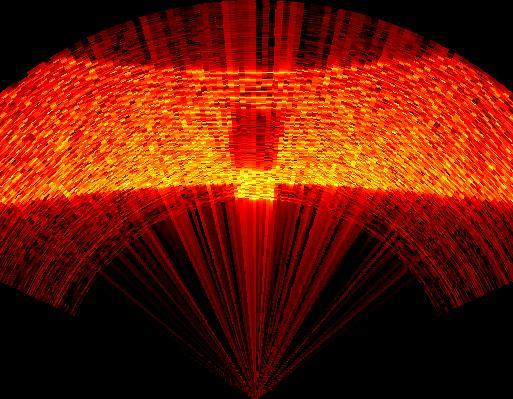box_crate: (229, 108, 284, 168)
